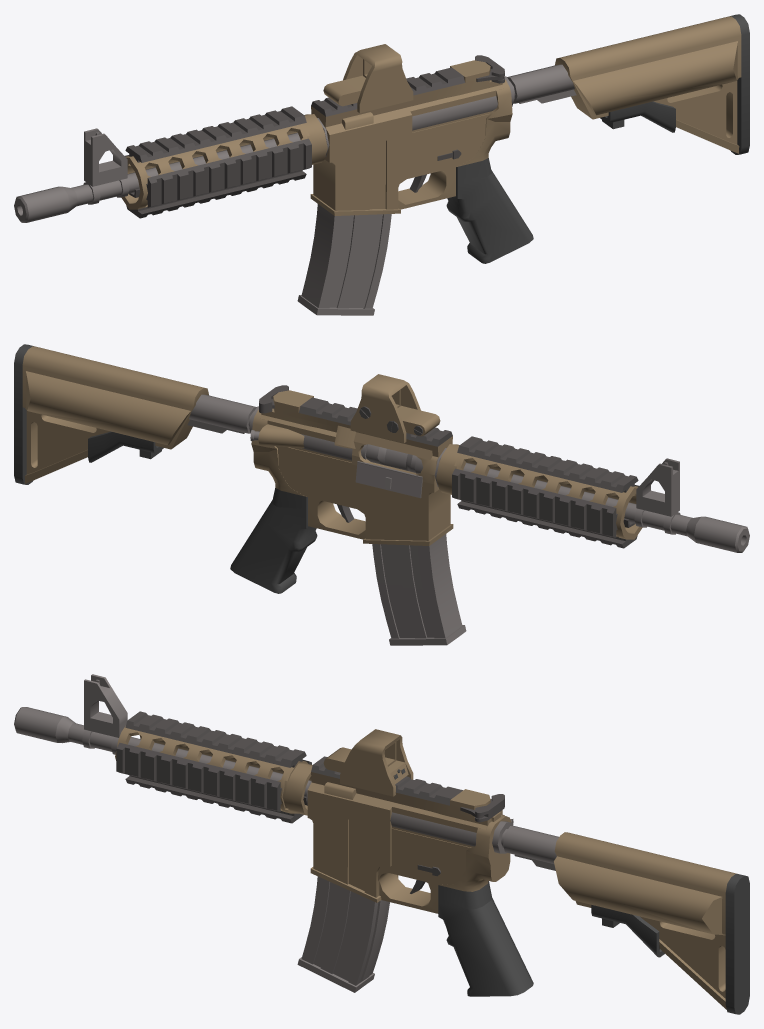
The model's file is M4A4Done.fbx.
3 views of the same model, one above another, from view 1: azimuth 30°, elevation 25°; view 2: azimuth 150°, elevation 25°; view 3: azimuth 330°, elevation 25° (orthographic).
Visible parts, largest first — view 1: Cube.014, Cylinder.005, Cube.016, BASE.001, BASE.002, Cube.025, Cylinder.002, Cube.015, Cylinder.010, Cube.008, Cylinder.004, Cube.011; view 2: Cube.014, Cylinder.005, Cube.016, BASE.001, BASE.002, Cube.025, Cylinder.002, Cylinder.010, Cube.015, Cube.008, Cylinder.004, Cylinder.012 (+3 smaller); view 3: Cube.014, Cylinder.005, BASE.001, Cube.016, Cube.025, BASE.002, Cylinder.002, Cube.015, Cylinder.010, Cube.008, Cylinder.004, Cube.011 (+1 smaller).
Boxes of the visible parts, box(x1,y1,x2,y2) form: Cube.014: box(310, 60, 512, 215); Cylinder.005: box(125, 67, 464, 218); Cube.016: box(297, 204, 391, 315); BASE.001: box(555, 14, 749, 154); BASE.002: box(573, 41, 738, 115); Cube.025: box(446, 158, 533, 263); Cylinder.002: box(14, 64, 574, 222); Cube.015: box(323, 44, 413, 113); Cylinder.010: box(121, 114, 327, 209); Cube.008: box(654, 81, 739, 153); Cylinder.004: box(83, 128, 129, 204); Cube.011: box(600, 101, 675, 132); Cube.014: box(251, 390, 453, 545); Cylinder.005: box(299, 397, 638, 548); Cube.016: box(372, 534, 466, 645); BASE.001: box(14, 344, 208, 484); BASE.002: box(25, 371, 190, 445); Cube.025: box(230, 488, 317, 593); Cylinder.002: box(189, 394, 749, 552); Cylinder.010: box(436, 444, 642, 539); Cube.015: box(350, 374, 440, 443); Cube.008: box(24, 411, 109, 483); Cylinder.004: box(634, 458, 680, 534); Cylinder.012: box(355, 461, 422, 497); Cube.014: box(306, 772, 511, 913); Cylinder.005: box(116, 711, 462, 823); BASE.001: box(554, 832, 749, 1014); Cube.016: box(297, 876, 389, 992); Cube.025: box(438, 881, 533, 996); BASE.002: box(554, 856, 725, 935); Cylinder.002: box(14, 707, 558, 863); Cube.015: box(323, 729, 413, 796); Cylinder.010: box(115, 726, 312, 815); Cube.008: box(640, 916, 726, 1009); Cylinder.004: box(82, 674, 127, 754); Cube.011: box(591, 905, 664, 957).
Size of the model in its own units: 934 by 312 by 80.36.
